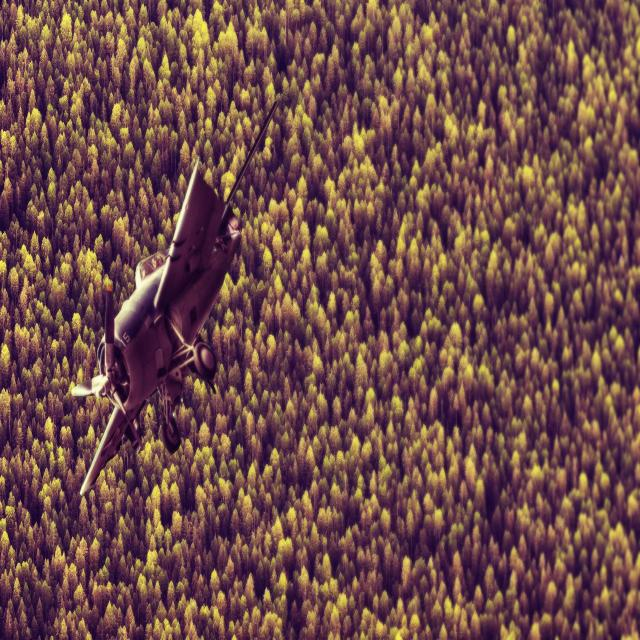airplane: (70, 95, 280, 498)
